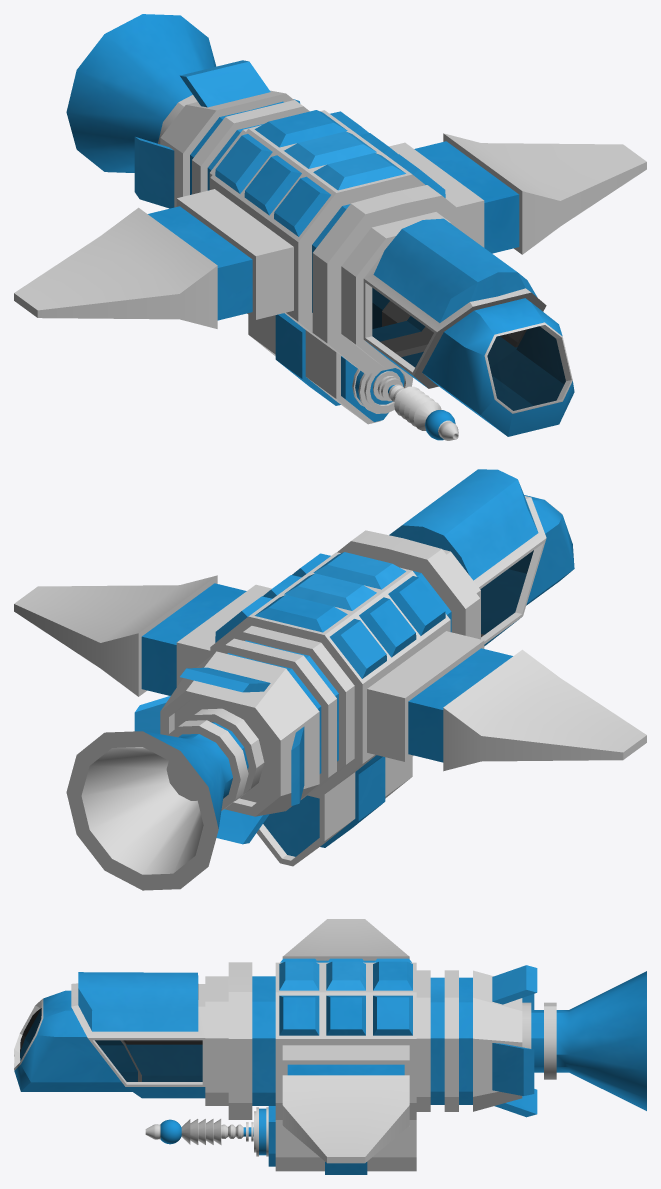
Rendered from BDE.fbx.
3 views of the same model, one above another, from view 1: azimuth 30°, elevation 25°; view 2: azimuth 150°, elevation 25°; view 3: azimuth 270°, elevation 25° (orthographic). The views are drawn at different scales.
Visible parts, largest first — view 1: BDE; view 2: BDE; view 3: BDE.
Part boxes in pixels (<box>): BDE: <box>14,14,646,440</box>; BDE: <box>14,469,646,890</box>; BDE: <box>14,919,646,1174</box>.
Bounding box in the file's own units: 8 × 3.15 × 8.99.
